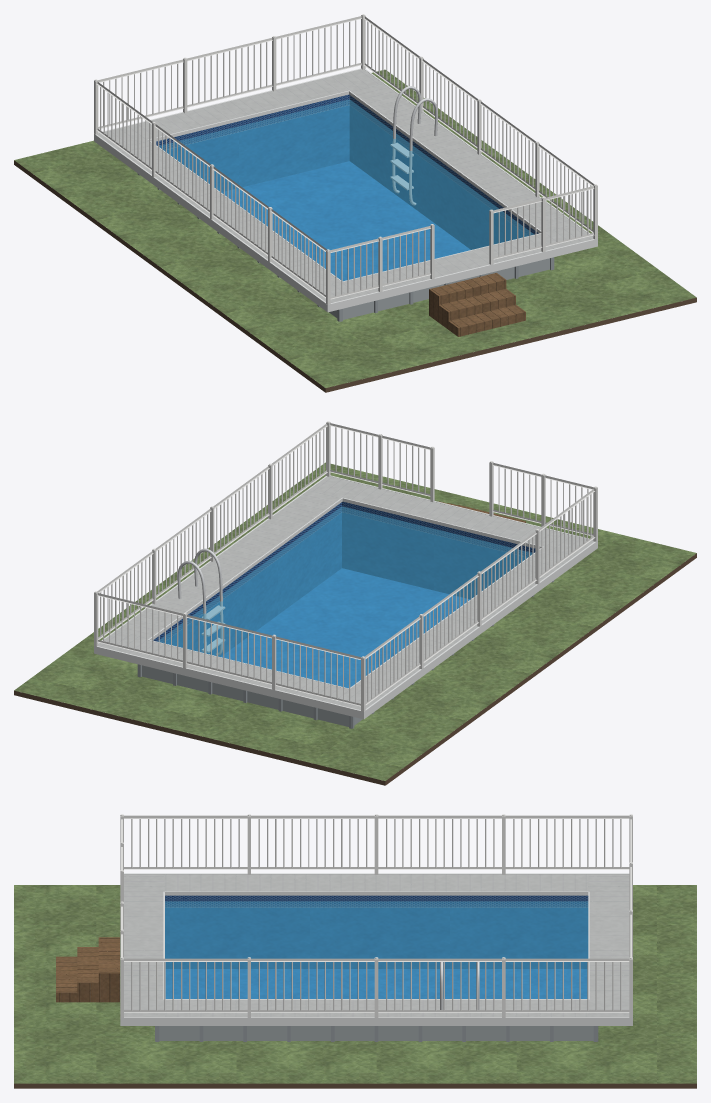
Rendered from kayak-pool-12x20-gray-walk-rec-fence.c3c3d196c0.glb.
3 renders of one model, top to bottom at view 1: azimuth 30°, elevation 25°; view 2: azimuth 150°, elevation 25°; view 3: azimuth 270°, elevation 25°, orthographic. The views are drawn at different scales.
Parts seen in each view (by area): view 1: ground, water, fence, liner_wall, deck, liner_floor, fascia, steps, soil, wall, steel; view 2: ground, water, fence, liner_wall, deck, liner_floor, fascia, soil, wall, steel; view 3: ground, water, liner_wall, deck, fence, liner_floor, fascia, wall, soil, steps, upright.
Boxes of the visible parts, box(x1,y1,x2,y2) form: ground: box(14, 69, 696, 387); water: box(159, 99, 533, 280); fence: box(94, 14, 597, 304); liner_wall: box(156, 94, 538, 249); deck: box(97, 69, 593, 302); liner_floor: box(221, 161, 470, 280); fascia: box(94, 68, 597, 312); steps: box(429, 273, 525, 336); soil: box(14, 160, 696, 392); wall: box(329, 258, 549, 319); steel: box(390, 86, 437, 205); ground: box(14, 462, 696, 780); water: box(157, 506, 532, 688); fence: box(94, 421, 597, 711); liner_wall: box(153, 501, 535, 656); deck: box(98, 476, 593, 710); liner_floor: box(221, 568, 470, 688); fascia: box(94, 475, 597, 719); soil: box(14, 553, 696, 785); wall: box(142, 665, 362, 726); steel: box(177, 548, 225, 655); ground: box(14, 885, 696, 1083); water: box(165, 901, 588, 998); liner_wall: box(165, 895, 588, 968); deck: box(124, 874, 629, 1016); fence: box(120, 814, 632, 1017); liner_floor: box(165, 969, 587, 998); fascia: box(120, 873, 632, 1025); wall: box(159, 1026, 593, 1040); soil: box(14, 1083, 696, 1088); steps: box(56, 937, 119, 1002); upright: box(155, 1026, 598, 1041).
Size of the model in its own units: 6.71 by 2.15 by 9.75.
Materials: 13 (5 with a texture image).
